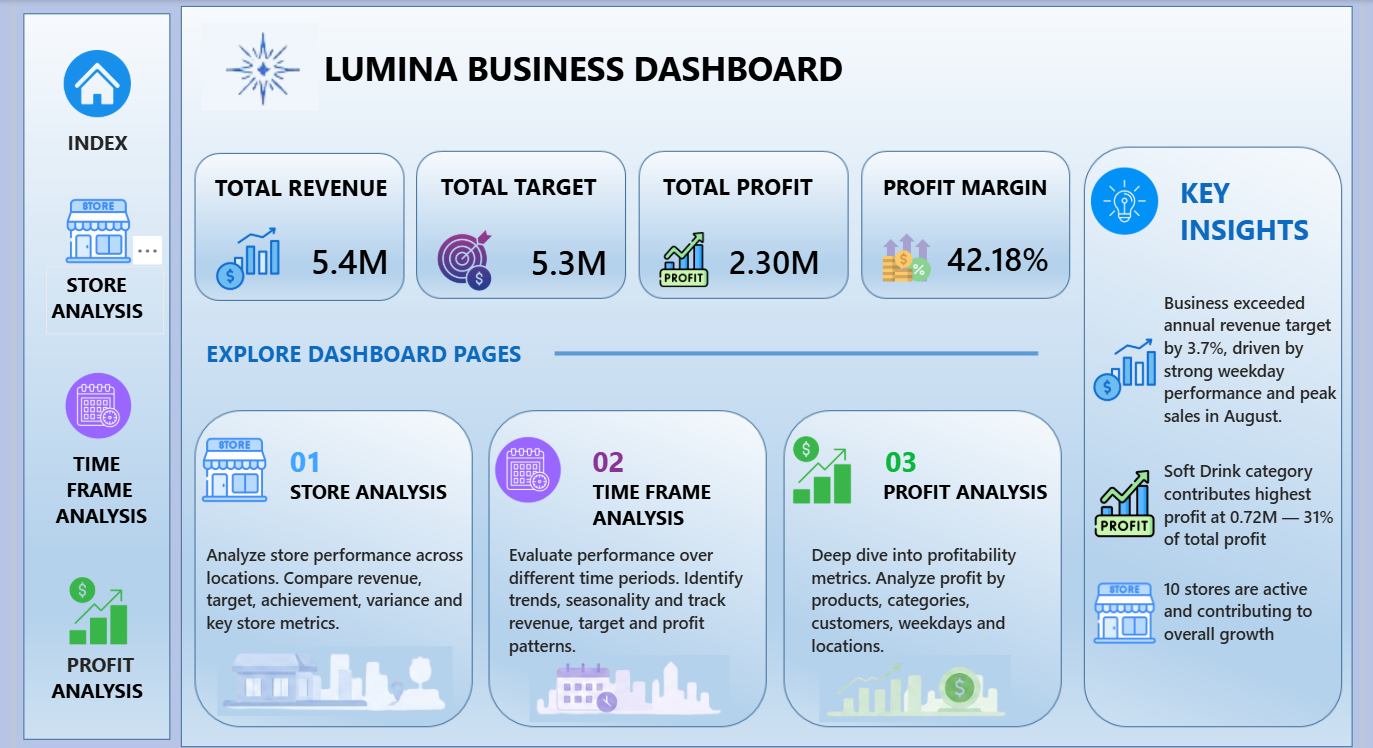

What the dashboard file says about the page in this screenshot:
{"tool":"powerbi","page":{"name":"Index","canvas":[1280,720],"ordinal":0},"visuals":[{"type":"textbox","box":[288,38,560,64],"z":0},{"type":"cardVisual","title":"TOTAL REVENUE","fields":{"Data":["Key Measures.Total Revenue"]},"box":[160,144,224,157],"z":1000},{"type":"cardVisual","title":"TOTAL TARGET","fields":{"Data":["Key Measures.Total Target"]},"box":[368,144,224,160],"z":2000},{"type":"cardVisual","title":"TOTAL PROFIT","fields":{"Data":["Key Measures.Total Profit"]},"box":[592,147,192,153],"z":3000},{"type":"cardVisual","title":"PROFIT MARGIN","fields":{"Data":["Key Measures.% Profit Margin"]},"box":[800,144,208,156],"z":4000},{"type":"image","box":[176,416,64,64],"z":5000},{"type":"textbox","box":[256,416,160,80],"z":6000},{"type":"textbox","box":[176,512,256,96],"z":7000},{"type":"image","box":[192,608,224,80],"z":8000},{"type":"image","box":[448,416,80,64],"z":9000},{"type":"textbox","box":[544,416,224,96],"z":10000},{"type":"textbox","box":[464,512,240,128],"z":11000},{"type":"image","box":[464,624,240,64],"z":12000},{"type":"image","box":[736,416,64,64],"z":13000},{"type":"textbox","box":[816,416,176,80],"z":14000},{"type":"textbox","box":[752,512,240,128],"z":15000},{"type":"image","box":[752,624,208,64],"z":16000},{"type":"image","box":[1024,160,64,64],"z":17000},{"type":"textbox","box":[1104,160,176,96],"z":18000},{"type":"textbox","box":[1088,272,176,144],"z":19000},{"type":"textbox","box":[1088,432,176,112],"z":20000},{"type":"textbox","box":[1088,544,176,80],"z":21000},{"type":"image","box":[1024,320,64,64],"z":22000},{"type":"image","box":[1024,448,64,64],"z":23000},{"type":"image","box":[1024,554,64,61],"z":24000},{"type":"textbox","box":[176,317,320,48],"z":25000},{"type":"image","box":[176,16,112,96],"z":26000},{"type":"textbox","box":[28,254,112,64],"z":27000},{"type":"textbox","box":[44,118,80,48],"z":28000},{"type":"textbox","box":[27,424,112,112],"z":29000},{"type":"textbox","box":[28,616,112,64],"z":30000},{"type":"image","box":[46,188,64,64],"z":31000},{"type":"image","title":"Index","box":[22,48,112,64],"z":32000},{"type":"image","box":[46,347,64,80],"z":33000},{"type":"image","box":[46,542,64,80],"z":34000}]}

Visuals, with their boxes on the page's 1280x720 design canvas (x1, y1, x2, y2). These are canvas units, not pixel positions in the 1373x748 screenshot, which may show the page scaled, cropped or inside an application window:
textbox: 288,38,848,102
"TOTAL REVENUE" cardVisual: 160,144,384,301
"TOTAL TARGET" cardVisual: 368,144,592,304
"TOTAL PROFIT" cardVisual: 592,147,784,300
"PROFIT MARGIN" cardVisual: 800,144,1008,300
image: 176,416,240,480
textbox: 256,416,416,496
textbox: 176,512,432,608
image: 192,608,416,688
image: 448,416,528,480
textbox: 544,416,768,512
textbox: 464,512,704,640
image: 464,624,704,688
image: 736,416,800,480
textbox: 816,416,992,496
textbox: 752,512,992,640
image: 752,624,960,688
image: 1024,160,1088,224
textbox: 1104,160,1280,256
textbox: 1088,272,1264,416
textbox: 1088,432,1264,544
textbox: 1088,544,1264,624
image: 1024,320,1088,384
image: 1024,448,1088,512
image: 1024,554,1088,615
textbox: 176,317,496,365
image: 176,16,288,112
textbox: 28,254,140,318
textbox: 44,118,124,166
textbox: 27,424,139,536
textbox: 28,616,140,680
image: 46,188,110,252
"Index" image: 22,48,134,112
image: 46,347,110,427
image: 46,542,110,622
